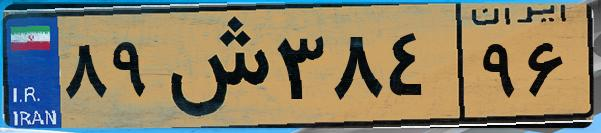3: (270, 28, 330, 110)
4: (385, 28, 445, 110)
6: (525, 38, 570, 115)
8: (330, 28, 385, 110), (57, 26, 110, 100)
9: (475, 38, 525, 113), (110, 28, 158, 98)
ش: (158, 12, 270, 120)
